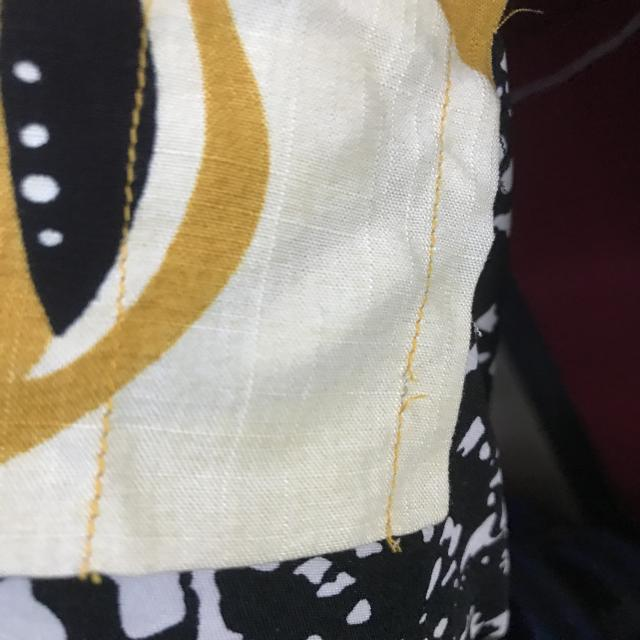broken: (384, 358, 436, 422)
